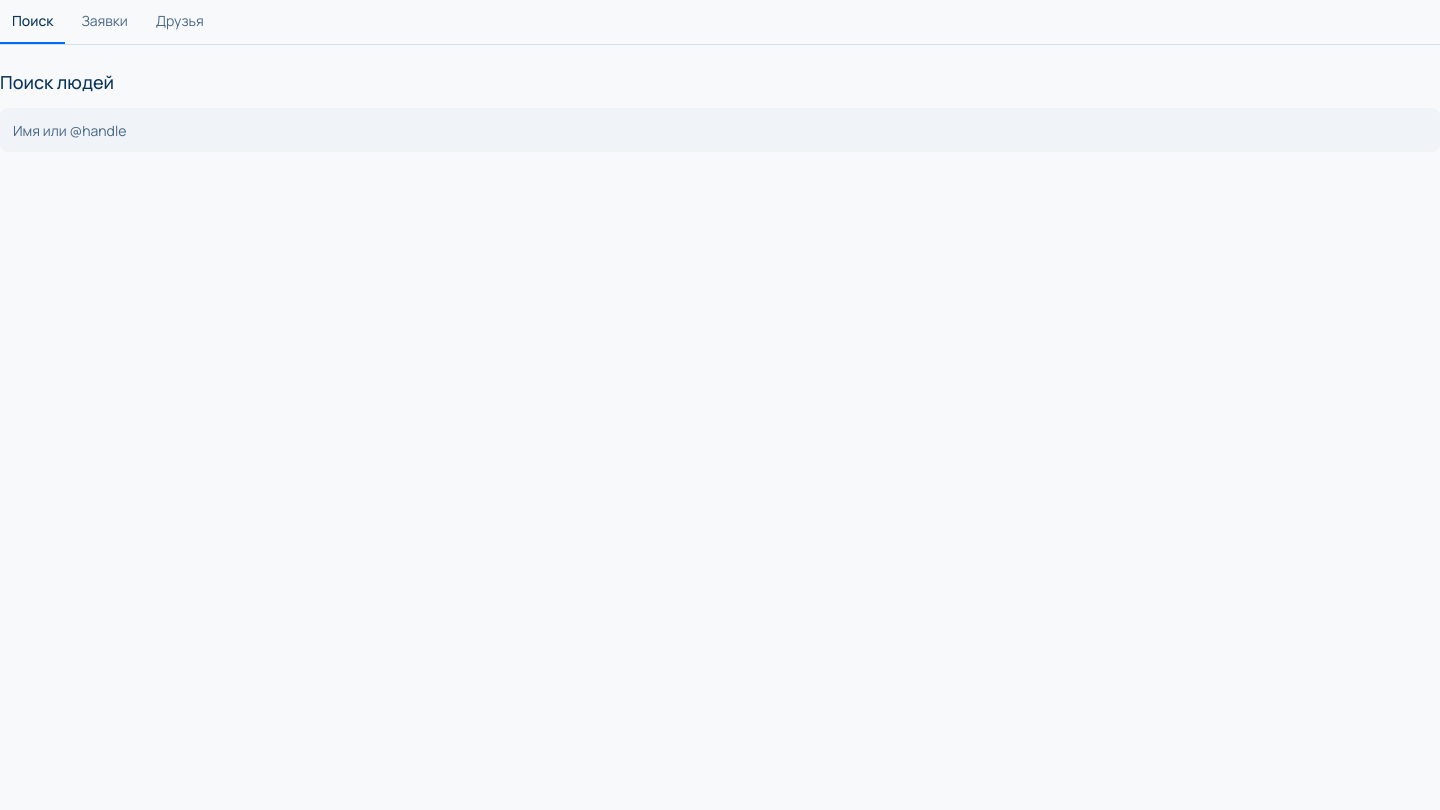
Test case: FriendsView feedback › removes a friend from the list after confirmation
Click the tab "Друзья" at (180, 22), box [144,0,216,44]
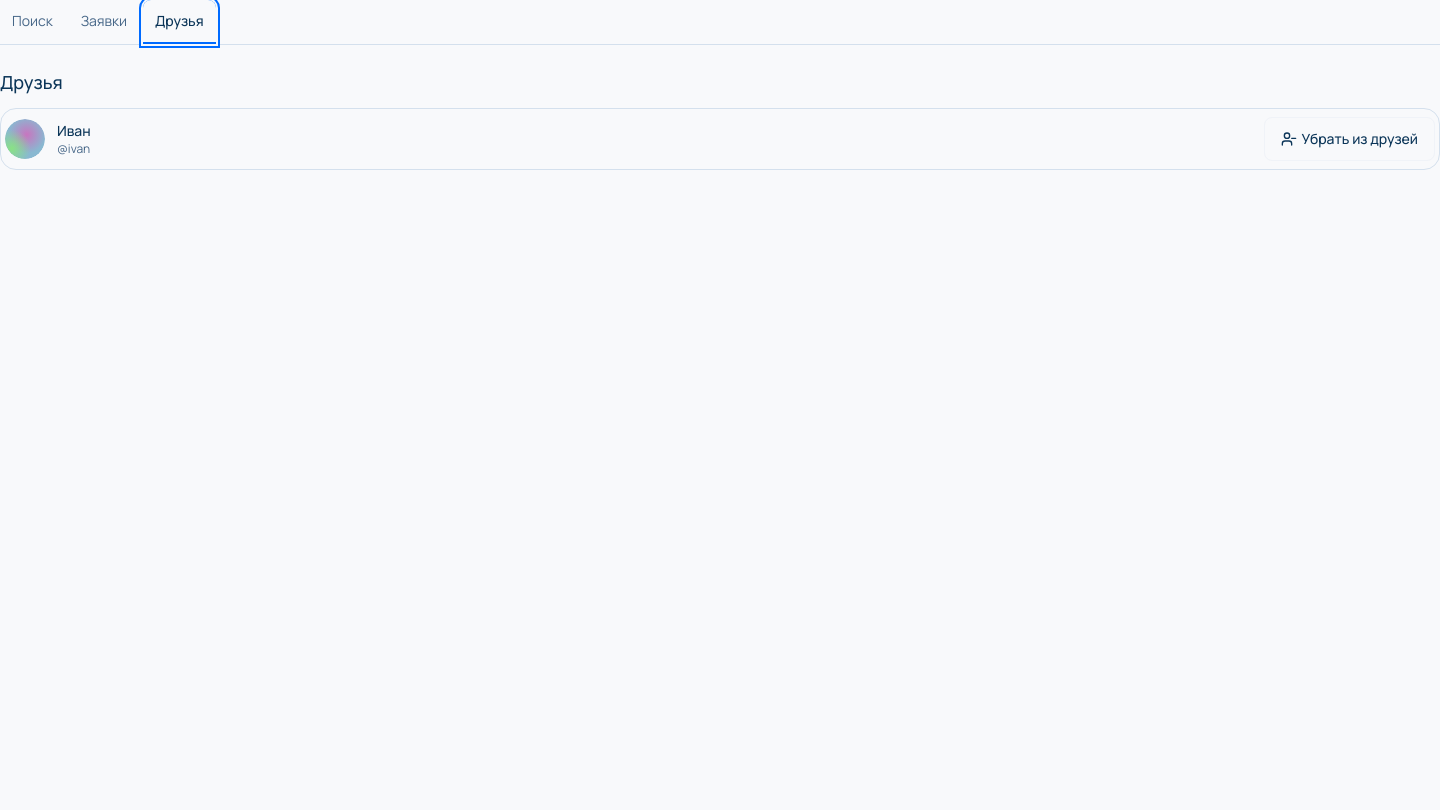
Click the button with aria-label "Убрать Иван из друзей" at (1350, 139), box [1264,117,1435,161]
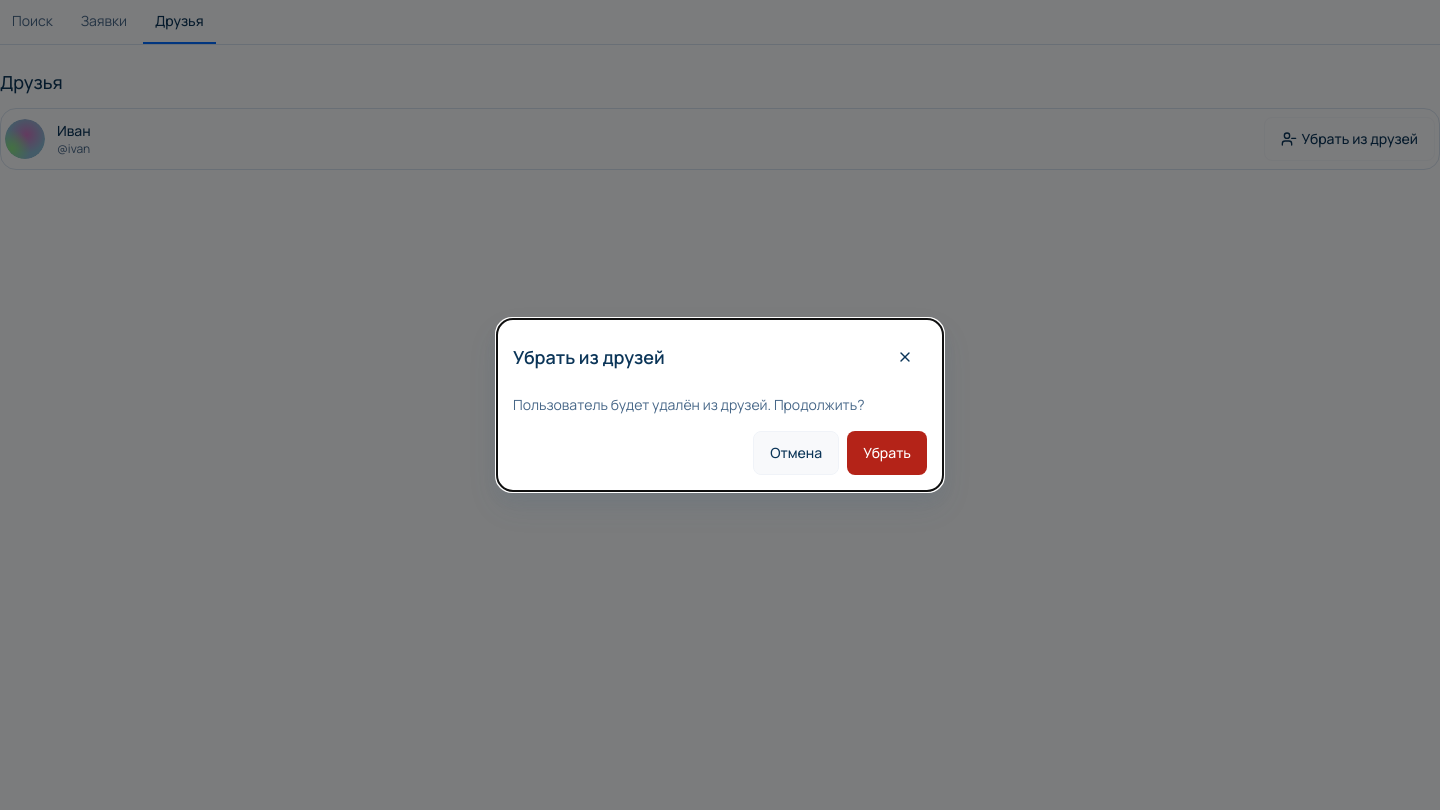
Click the button "Убрать" at (887, 453), box [847,431,927,475]
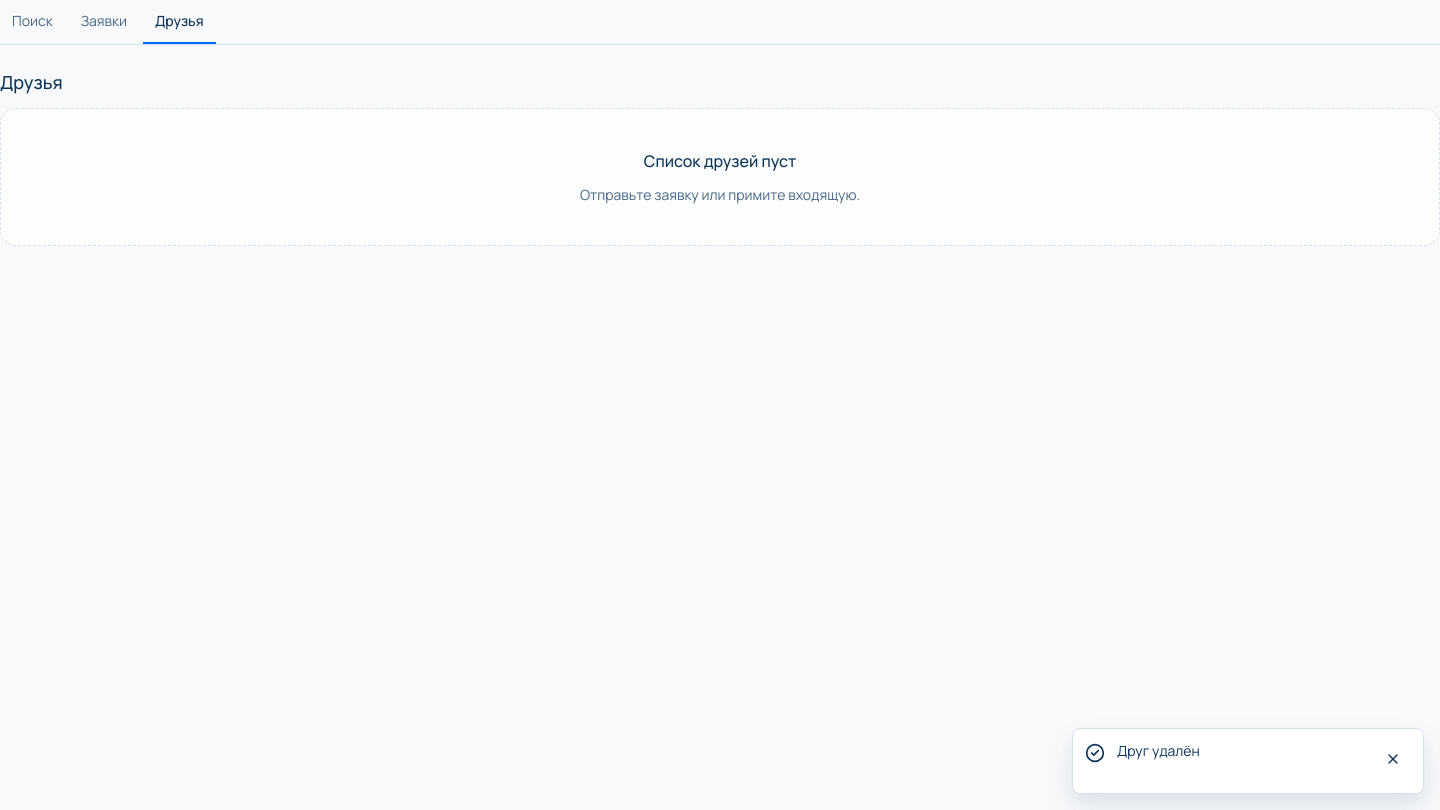
expect the list item with test id "toast" reads "Друг удалён": met, box [1117,741,1200,760]
expect the text "Список друзей пуст" is shown: met, box [644,149,796,173]
